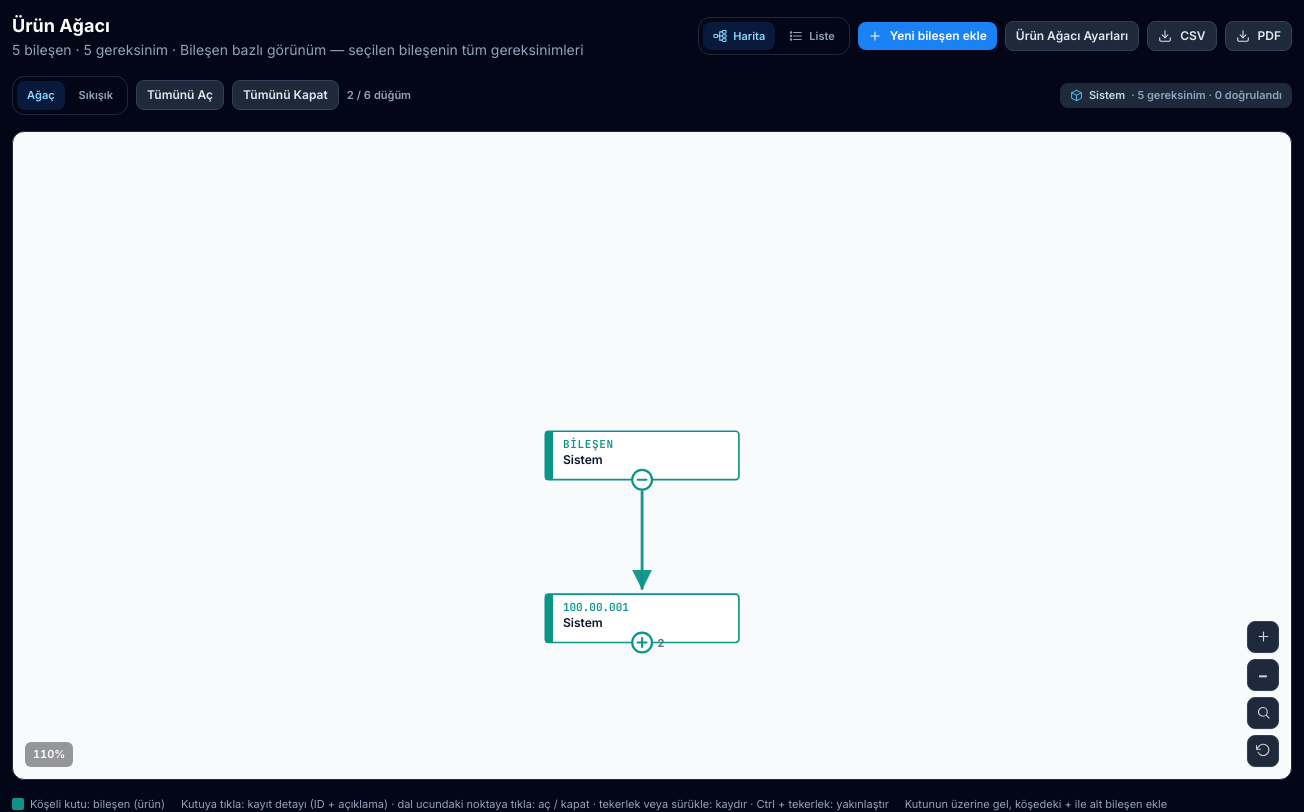
Test: Parça No — görünürlük › bileşen listesinde her bileşenin Parça No’su yazar
The image size is (1304, 812).
Click the button with test id "comp-view-list" at (812, 36), box top-left (779, 22), bottom-right (845, 50)
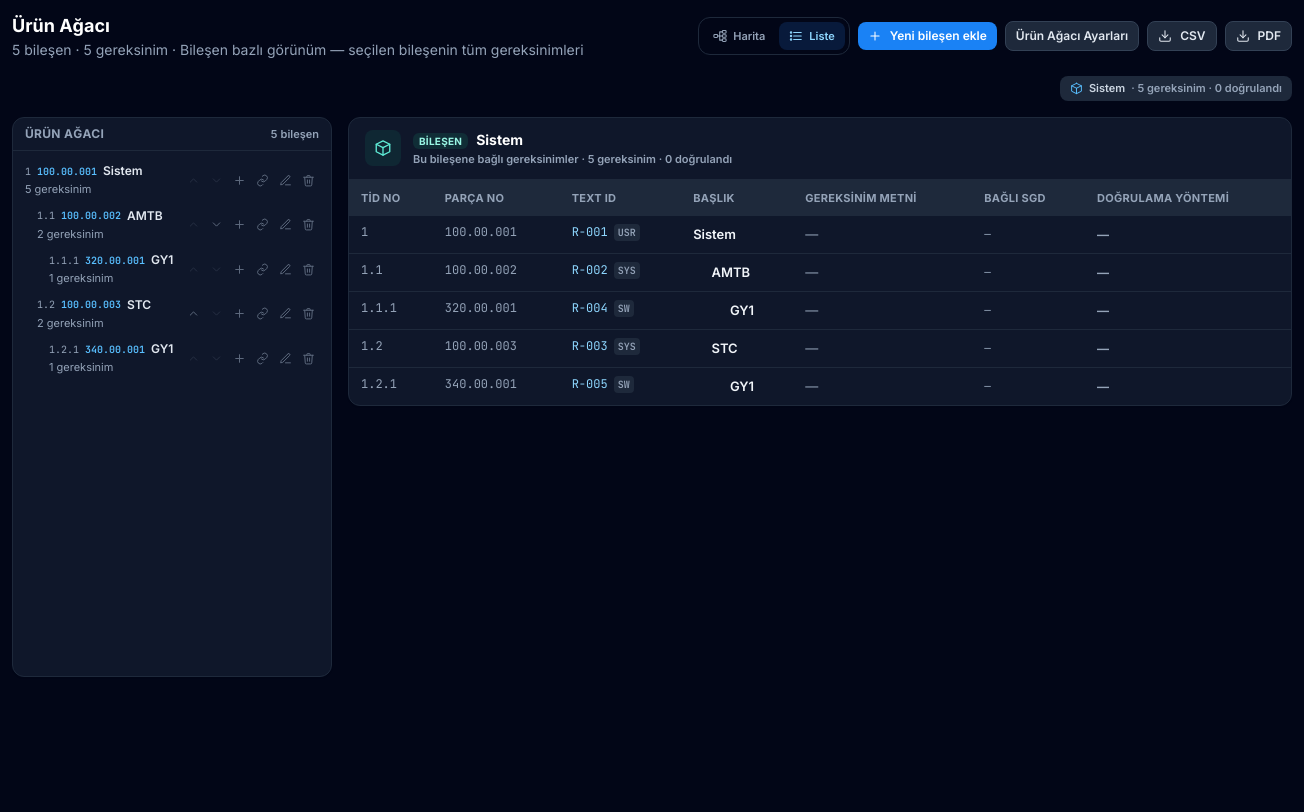
Now the text with test id "comp-partno-amtb" reads "100.00.002", box top-left (61, 209), bottom-right (121, 222)
Now the text with test id "comp-partno-stc" reads "100.00.003", box top-left (61, 298), bottom-right (121, 311)
